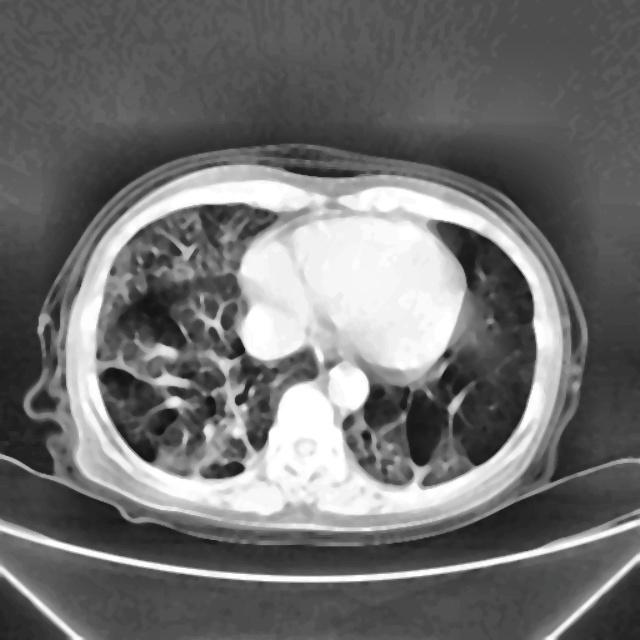covid: (23, 145, 588, 545)
